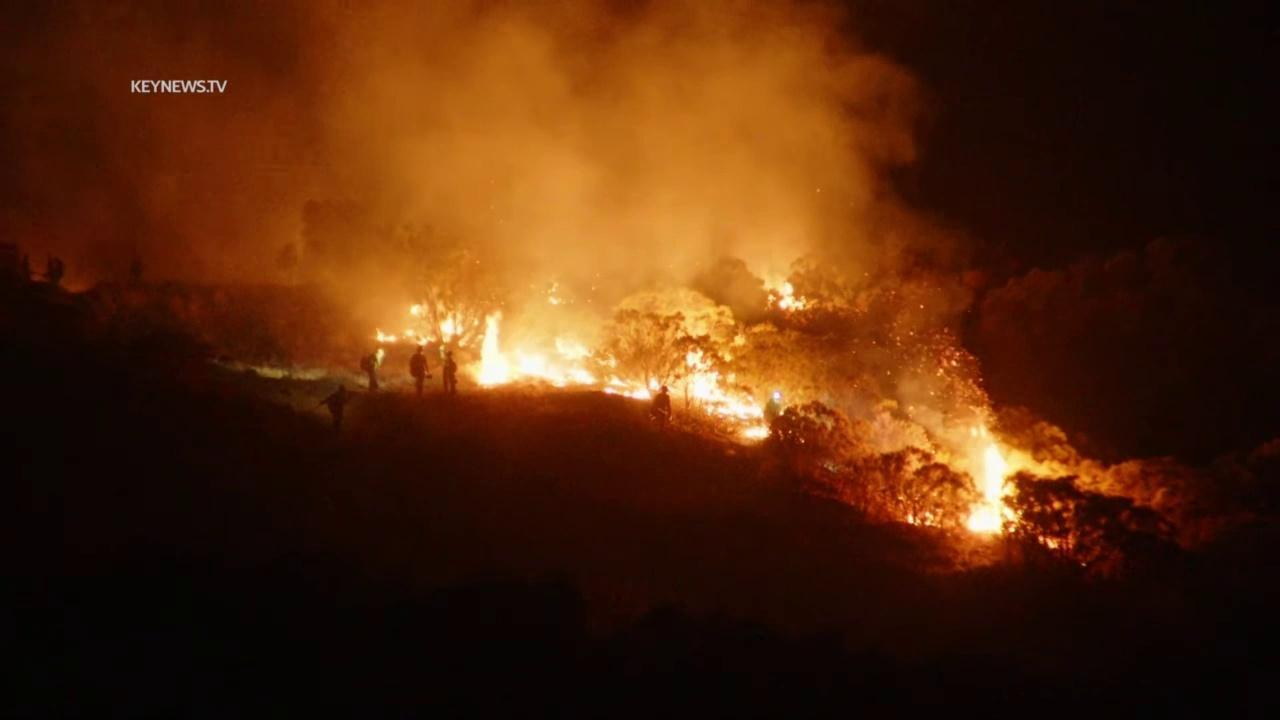fire: (600, 346, 773, 446), (962, 443, 1028, 533), (524, 320, 600, 389), (473, 307, 526, 390), (405, 313, 468, 349), (771, 280, 808, 312), (904, 506, 940, 528), (543, 280, 566, 307), (371, 325, 402, 343), (1038, 534, 1060, 550), (408, 303, 434, 316)
smoke: (0, 0, 984, 460)
